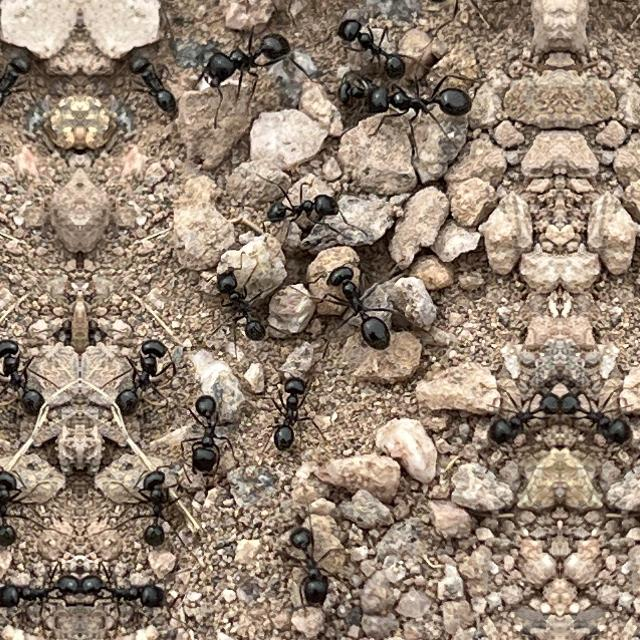Messor: (318, 252, 402, 358), (186, 22, 306, 96), (104, 329, 190, 428), (365, 80, 473, 134), (168, 386, 234, 474), (0, 329, 56, 428), (214, 256, 272, 350), (80, 560, 170, 620), (272, 523, 334, 609), (482, 379, 560, 446), (560, 379, 638, 446), (254, 374, 318, 454), (0, 559, 80, 620), (336, 16, 410, 80), (120, 50, 178, 120), (132, 460, 172, 546), (268, 190, 336, 236), (0, 49, 40, 120), (330, 76, 396, 112), (0, 460, 27, 545)
